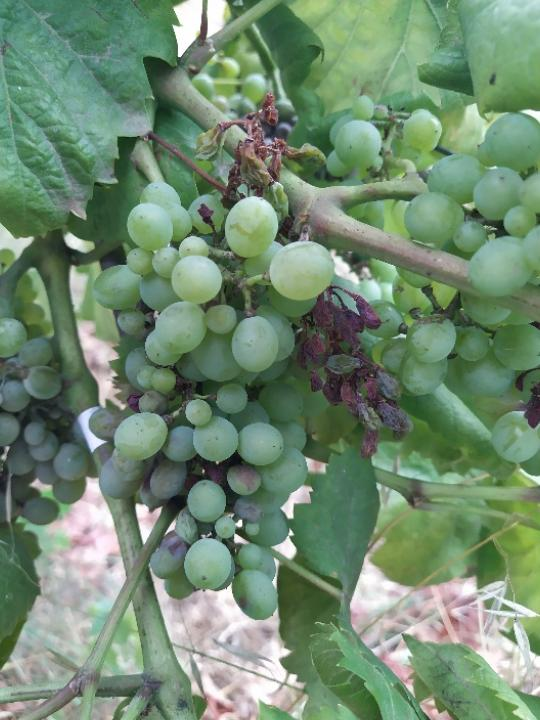grape: (83, 132, 341, 624)
